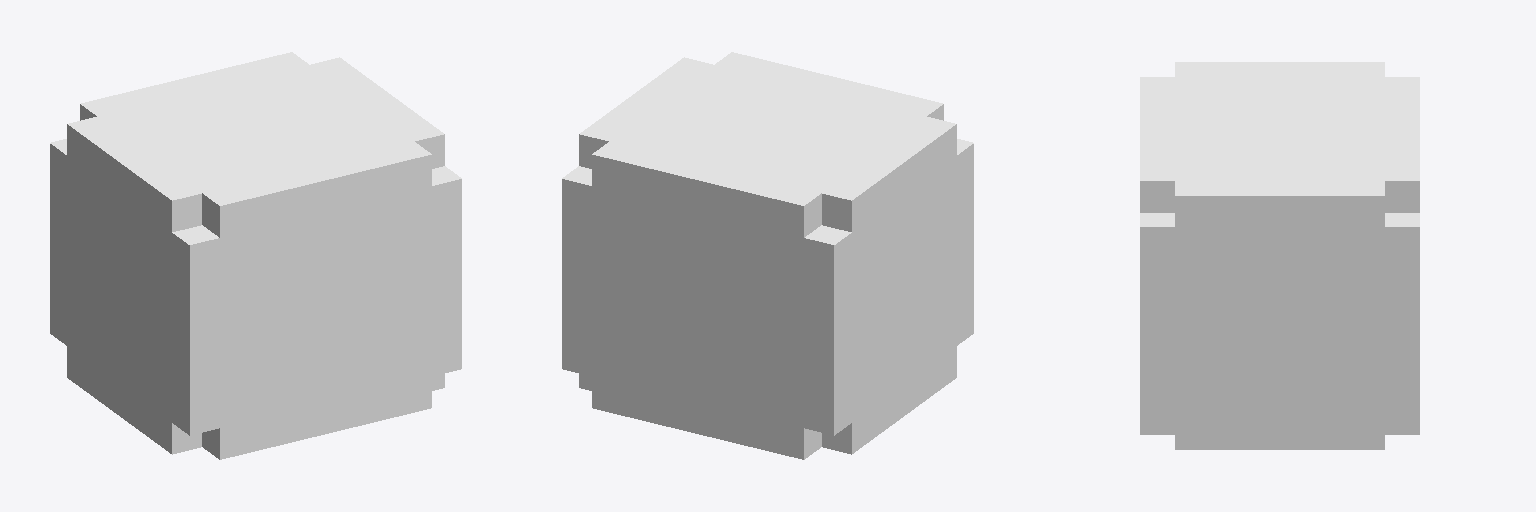
Rendered from Garfield_Head.obj.
3 renders of one model, left to right at view 1: azimuth 30°, elevation 25°; view 2: azimuth 150°, elevation 25°; view 3: azimuth 270°, elevation 25°, orthographic.
Visible parts, largest first — view 1: object 1; view 2: object 1; view 3: object 1.
Part boxes in pixels (x1,y1,x2,y2): object 1: (50, 52, 461, 459); object 1: (562, 52, 973, 459); object 1: (1140, 62, 1419, 449).
Size of the model in its own units: 0.9 by 0.8 by 0.8.